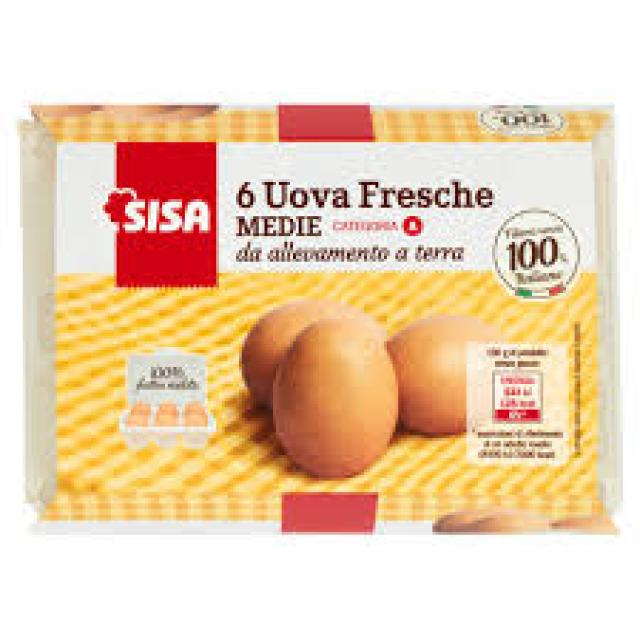Egg: (270, 318, 405, 483)
